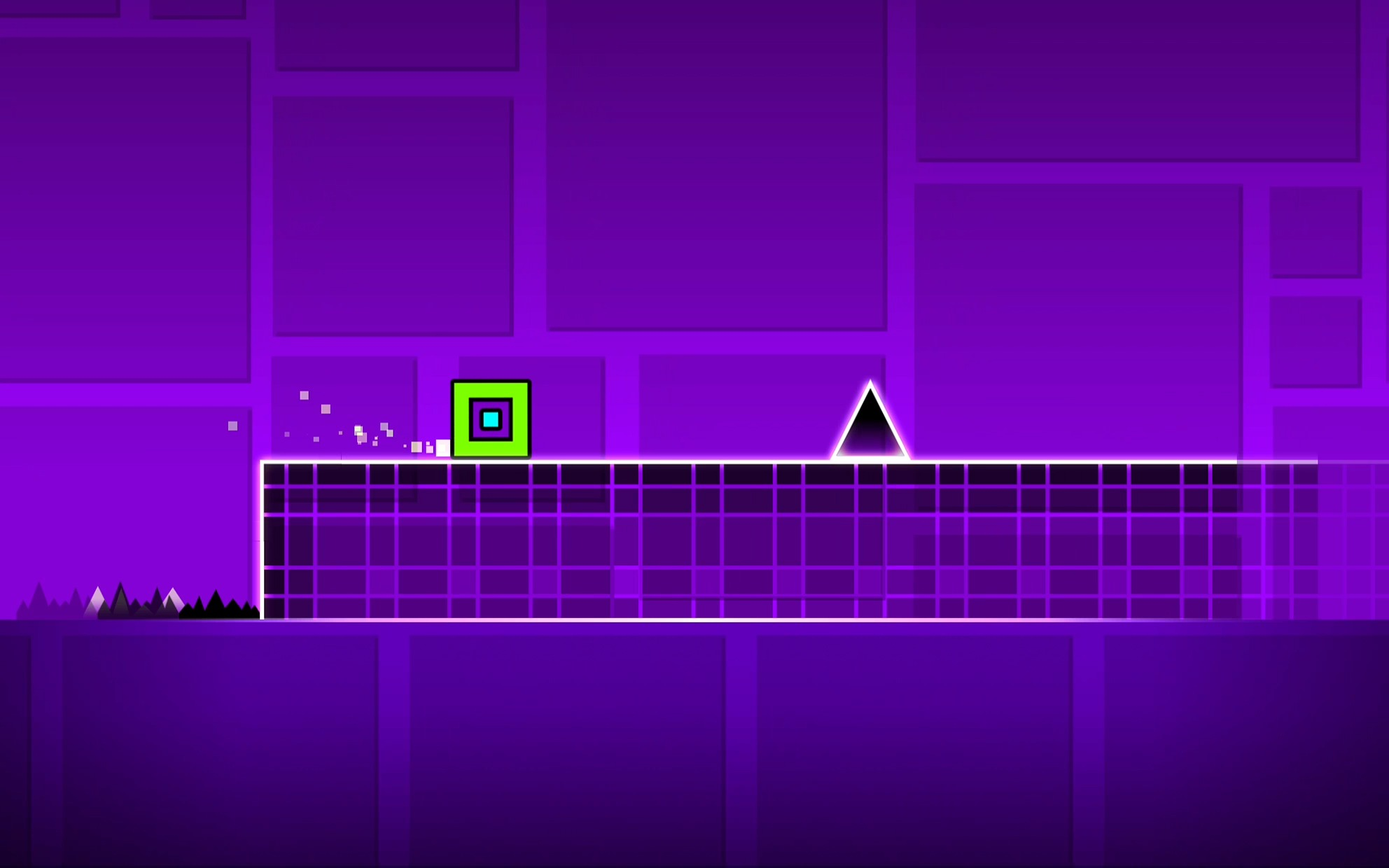Block2: (256, 457, 1376, 612)
Player: (447, 380, 531, 457)
Spike: (832, 381, 908, 458)
Spike2: (1, 578, 262, 622)
